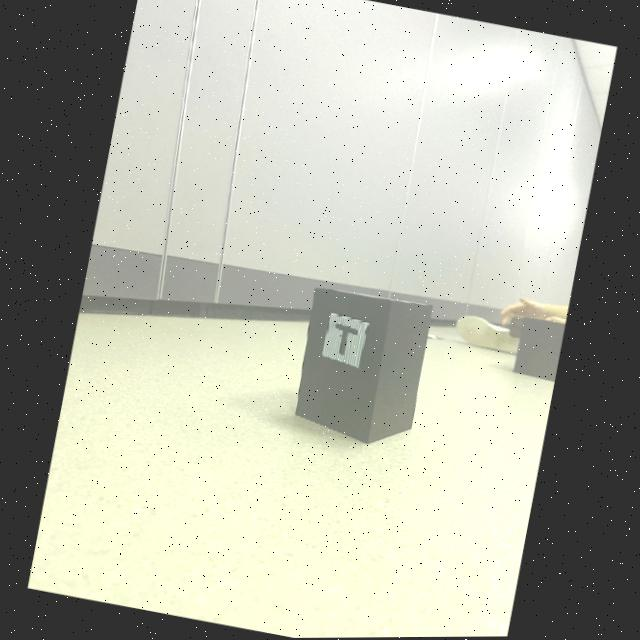T: (335, 323, 358, 358)
